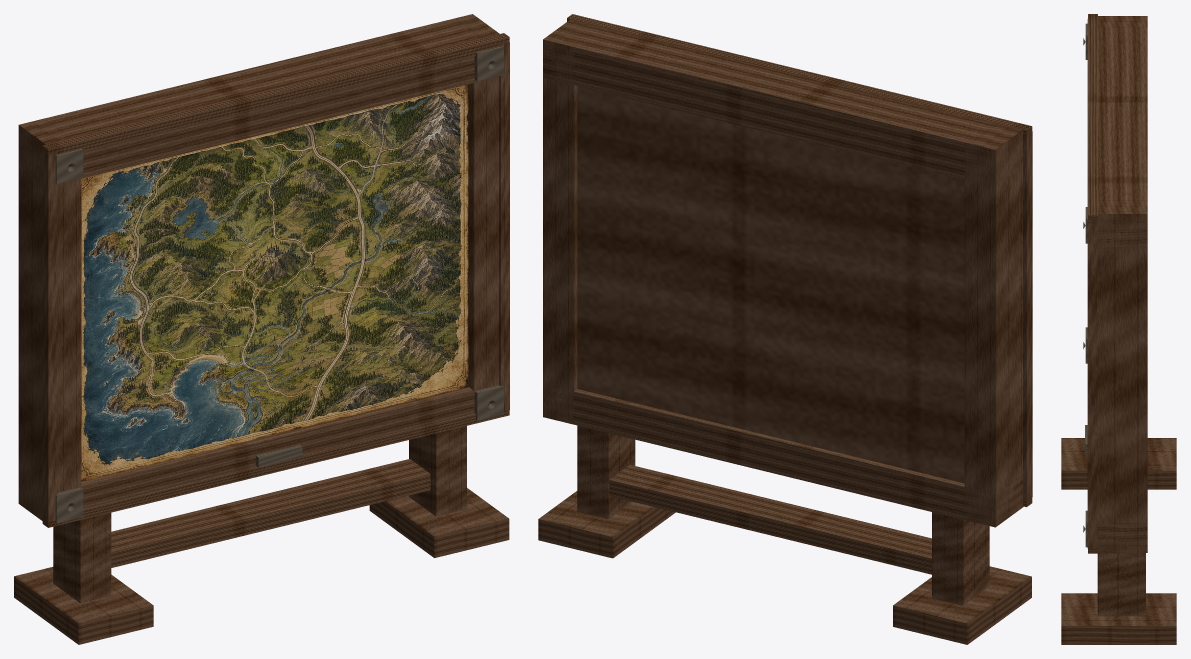
Rendered from level_county_campaign_board.glb.
3 renders of one model, left to right at view 1: azimuth 30°, elevation 25°; view 2: azimuth 150°, elevation 25°; view 3: azimuth 270°, elevation 25°, orthographic. The views are drawn at different scales.
Parts seen in each view (by area): view 1: Beckenburg County fixed campaign notice board; view 2: Beckenburg County fixed campaign notice board; view 3: Beckenburg County fixed campaign notice board.
Boxes of the visible parts, box(x1,y1,x2,y2) form: Beckenburg County fixed campaign notice board: box(14, 14, 509, 644); Beckenburg County fixed campaign notice board: box(538, 14, 1032, 644); Beckenburg County fixed campaign notice board: box(1061, 14, 1176, 644).
Size of the model in its own units: 2.53 by 2.56 by 0.614.
Materials: 3 (3 with a texture image).
